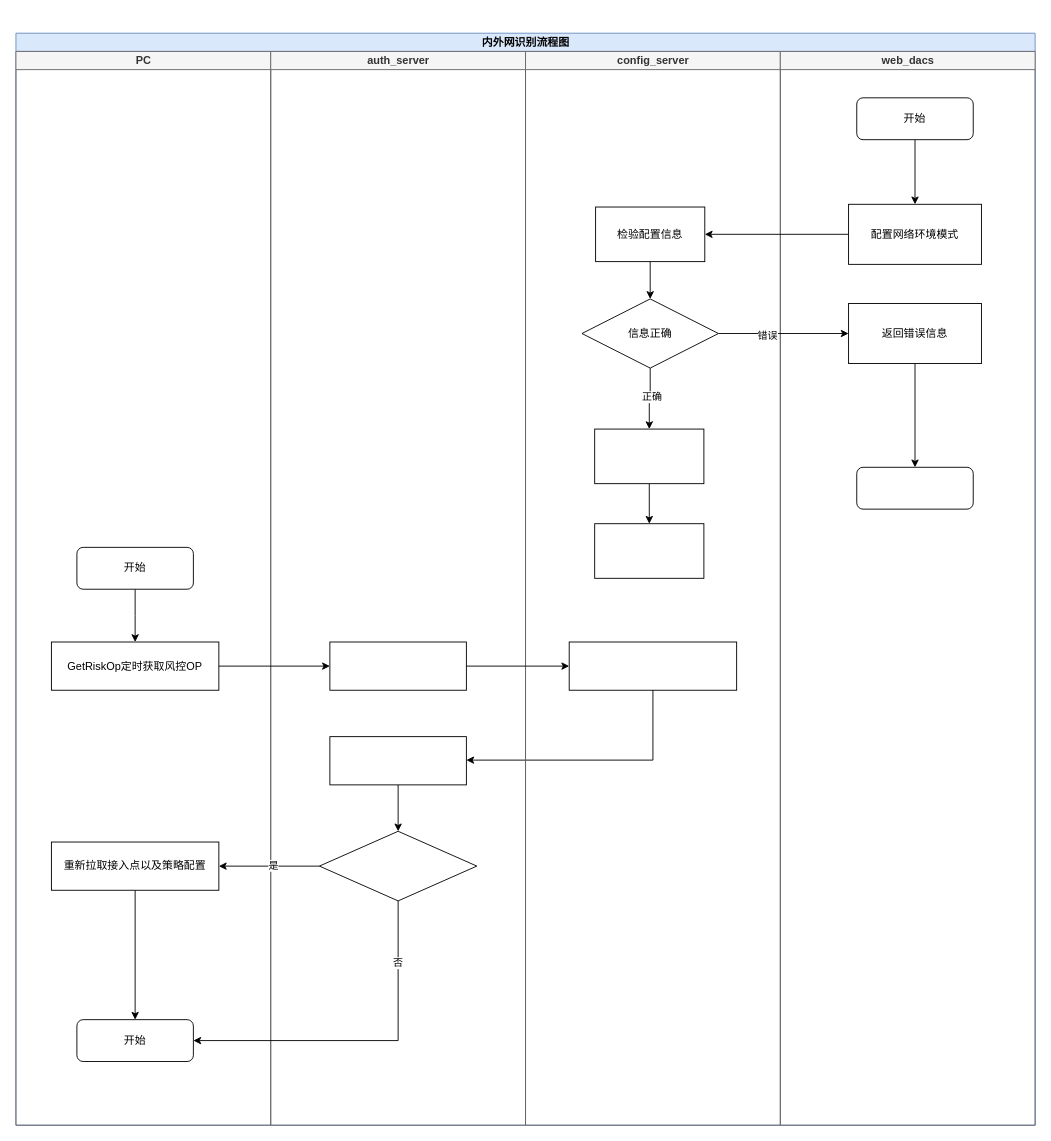
Image size: 1051x1141. Some labels were removed from this diagram. The centre of each missing label's shape, as x and y in pixels:
保存配置信息: point (649, 456)
判断网络环境id是否变化: point (397, 865)
处理Pc上报信息: point (397, 665)
更新缓存: point (649, 550)
根据模式获取网络环境ID: point (397, 760)
结束: point (914, 487)
获取网络环境模式信息: point (652, 665)
